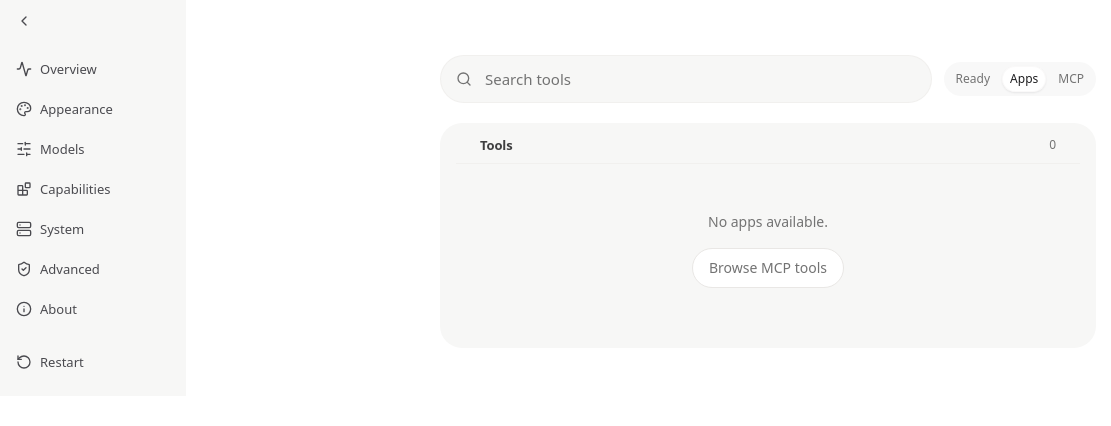
Test: SettingsView Apps catalog › keeps an OAuth runtime failure visible after credentials are cleared
Click the button "MCP".
click(1071, 79)  # box [1050,66,1092,92]
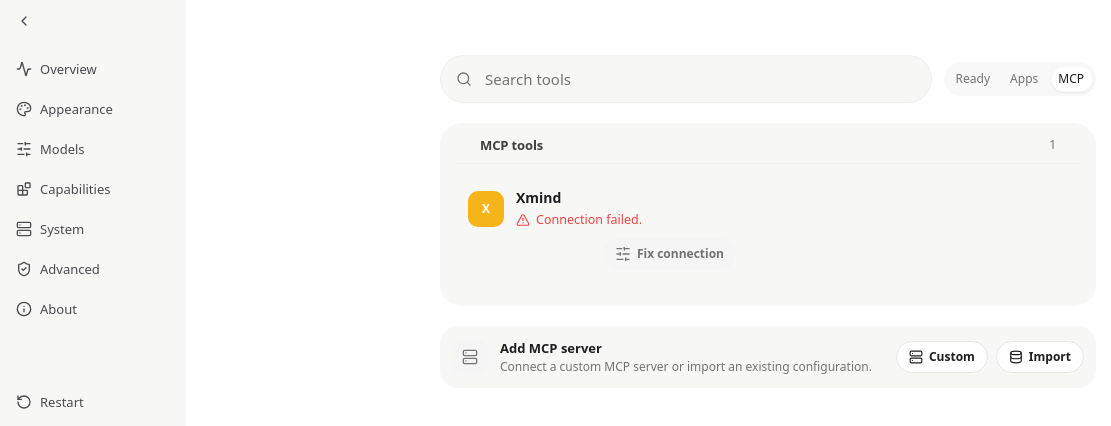
Check: the element "Xmind" is shown, box [456,176,748,282]
Check: the text "Connection failed." is shown, box [536,210,642,230]
Check: the button with aria-label "Manage Xmind" reads "Fix connection", box [603,238,736,270]
